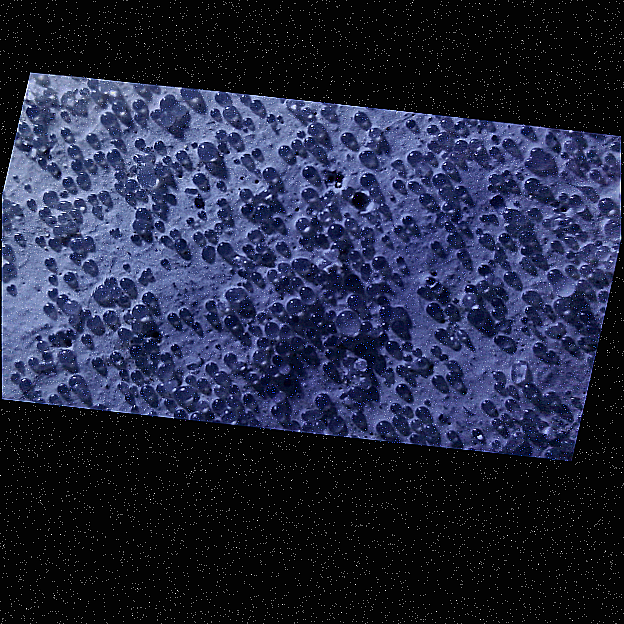GrassBeadSeg: (147, 151, 554, 457), (85, 131, 601, 363), (26, 139, 546, 364), (47, 166, 510, 417), (149, 112, 620, 349), (8, 179, 529, 379), (57, 183, 493, 421), (178, 85, 514, 391), (88, 85, 536, 313), (82, 156, 516, 390), (98, 111, 503, 358), (132, 147, 540, 392), (149, 106, 614, 310), (72, 199, 517, 405), (33, 148, 597, 309), (86, 131, 450, 379), (138, 144, 547, 348), (150, 196, 517, 414), (162, 191, 530, 404), (282, 130, 528, 432), (317, 104, 577, 382), (135, 113, 485, 318), (13, 227, 515, 367), (117, 167, 453, 373), (86, 77, 286, 414), (84, 118, 511, 273), (60, 148, 593, 269), (31, 149, 434, 309), (13, 157, 489, 289), (152, 166, 529, 331), (312, 198, 611, 405), (314, 111, 574, 344), (79, 207, 533, 340), (156, 134, 448, 337), (243, 99, 495, 327), (65, 90, 385, 268), (46, 92, 278, 334), (222, 135, 445, 385), (237, 187, 510, 391), (159, 233, 501, 388), (1, 110, 367, 254), (57, 109, 283, 334), (62, 159, 278, 392), (199, 141, 560, 280), (59, 211, 483, 329), (47, 210, 429, 338), (12, 173, 288, 350), (121, 268, 562, 375), (223, 115, 457, 313), (58, 206, 521, 303), (24, 197, 476, 292), (204, 191, 567, 306), (214, 96, 460, 258), (149, 147, 620, 229), (159, 92, 316, 335), (226, 130, 398, 348), (191, 171, 492, 295), (331, 246, 529, 424), (48, 229, 574, 296), (132, 111, 259, 381), (256, 241, 543, 359), (8, 113, 344, 209), (149, 137, 446, 244), (246, 97, 467, 234), (263, 319, 502, 445), (170, 148, 311, 348), (16, 110, 116, 388), (102, 227, 576, 285), (94, 109, 448, 184), (75, 180, 503, 242), (285, 141, 438, 311), (172, 232, 327, 393), (133, 136, 282, 302), (31, 86, 272, 188), (13, 177, 346, 246), (333, 123, 532, 237), (178, 137, 303, 316), (37, 185, 453, 238), (55, 257, 336, 333), (54, 200, 301, 285), (12, 231, 534, 270), (203, 222, 343, 366), (52, 185, 361, 249), (97, 151, 311, 243), (75, 170, 374, 235), (68, 251, 457, 300), (221, 103, 389, 210), (91, 119, 454, 168), (307, 160, 417, 321), (449, 297, 559, 455), (205, 278, 395, 367), (64, 186, 190, 320), (56, 166, 139, 361), (222, 270, 519, 324), (290, 124, 404, 264), (490, 206, 620, 312), (392, 296, 569, 372), (406, 149, 566, 230), (426, 337, 550, 441), (422, 184, 517, 313), (70, 207, 157, 347), (378, 210, 461, 354), (192, 171, 414, 224), (251, 303, 456, 360), (9, 211, 79, 375), (43, 261, 130, 391), (359, 237, 449, 360), (217, 106, 378, 172), (160, 128, 435, 163), (243, 367, 390, 428), (347, 271, 430, 377), (34, 312, 131, 401), (252, 107, 330, 217), (358, 171, 540, 218), (290, 275, 482, 319), (2, 162, 145, 221), (309, 121, 542, 156), (422, 204, 525, 282), (384, 320, 464, 416), (342, 312, 456, 379), (252, 188, 344, 269), (4, 197, 84, 289), (493, 278, 607, 342), (224, 165, 278, 300), (300, 186, 615, 208), (41, 188, 74, 385), (296, 285, 397, 349), (147, 310, 237, 381), (300, 365, 404, 424), (3, 197, 91, 266), (129, 303, 218, 370), (370, 219, 462, 279), (504, 150, 620, 196), (396, 117, 479, 180), (34, 290, 104, 364), (503, 182, 579, 248), (86, 308, 168, 368), (298, 282, 477, 309), (217, 322, 292, 385), (166, 299, 266, 346), (369, 254, 592, 274), (276, 136, 516, 154), (266, 130, 353, 179), (174, 381, 409, 399), (93, 218, 154, 286), (329, 193, 377, 279), (102, 312, 142, 407), (327, 320, 409, 365), (493, 320, 592, 355), (394, 117, 464, 165), (416, 176, 540, 203), (203, 195, 348, 217), (22, 87, 76, 146), (365, 126, 416, 188), (479, 384, 534, 438), (517, 395, 577, 444), (154, 350, 224, 392), (242, 243, 326, 278), (169, 226, 267, 254), (66, 86, 119, 137), (162, 192, 222, 237), (546, 133, 620, 169), (18, 355, 103, 385), (25, 103, 65, 165), (17, 113, 68, 161), (247, 270, 333, 297), (47, 373, 133, 400), (78, 377, 152, 407), (271, 293, 358, 318), (205, 373, 270, 406), (280, 322, 333, 362), (236, 241, 279, 290), (115, 318, 169, 357), (192, 179, 226, 240), (109, 206, 178, 236), (301, 149, 374, 176), (469, 130, 550, 154), (64, 145, 150, 167), (322, 326, 365, 370), (428, 235, 511, 257), (172, 398, 253, 419), (44, 238, 84, 280), (109, 343, 156, 378), (389, 404, 433, 439), (48, 273, 119, 294), (168, 105, 254, 122), (524, 389, 568, 422), (343, 186, 379, 226), (78, 380, 125, 409), (250, 203, 328, 220), (46, 160, 165, 170), (351, 400, 399, 421), (313, 271, 329, 282), (79, 308, 86, 315)
